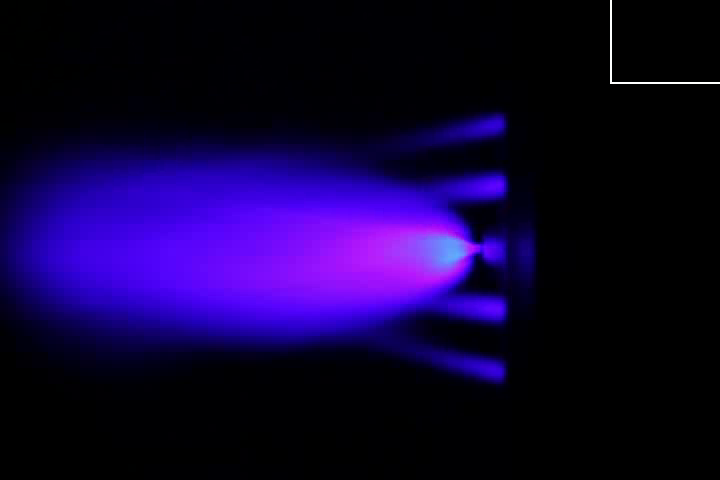burner cap: (480, 236, 507, 268)
pilot flame: (388, 330, 504, 383), (369, 116, 507, 148), (405, 292, 507, 324), (411, 171, 502, 201)
stable: (357, 218, 477, 284)
